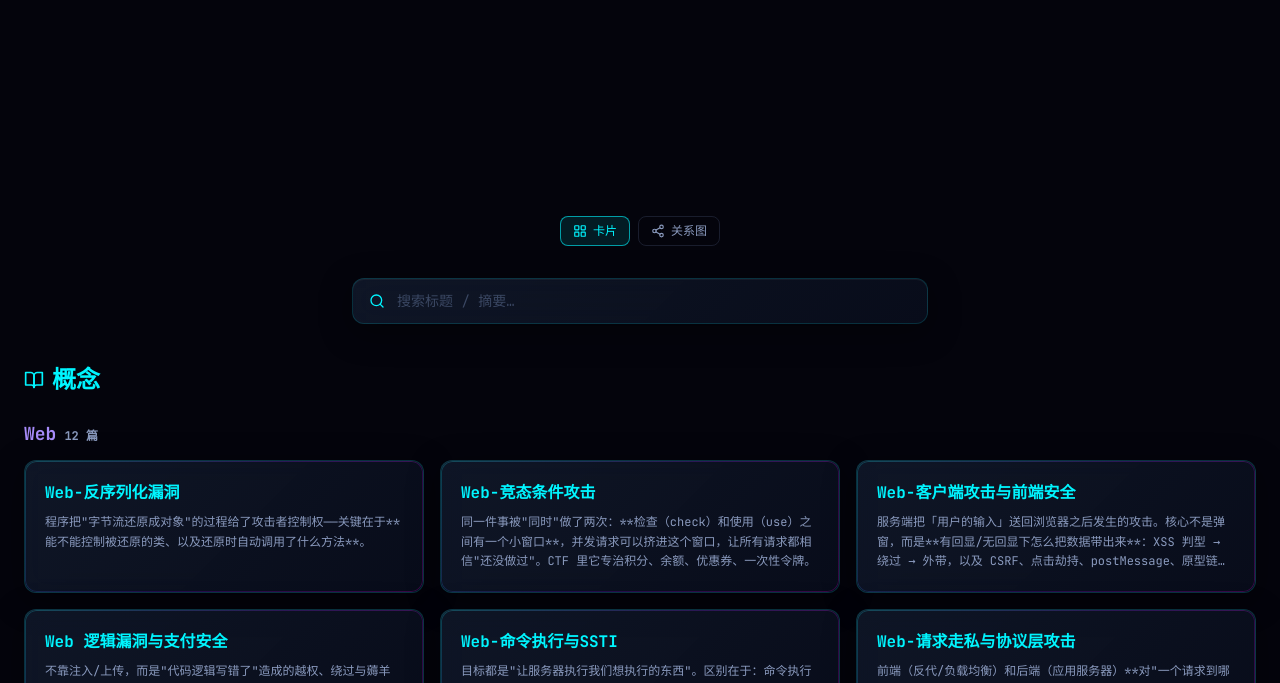
Scenario: 目录页渲染分区、卡片链接与搜索过滤
Check: the text "Web-反序列化漏洞" is shown, box [45,482,179,503]
Check: the heading "概念" is shown, box [24,364,100,395]
Type "Web-" into the field with placeholder "搜索标题 / 摘要…".
click(654, 301); type("Web-")  # box [397,291,911,311]
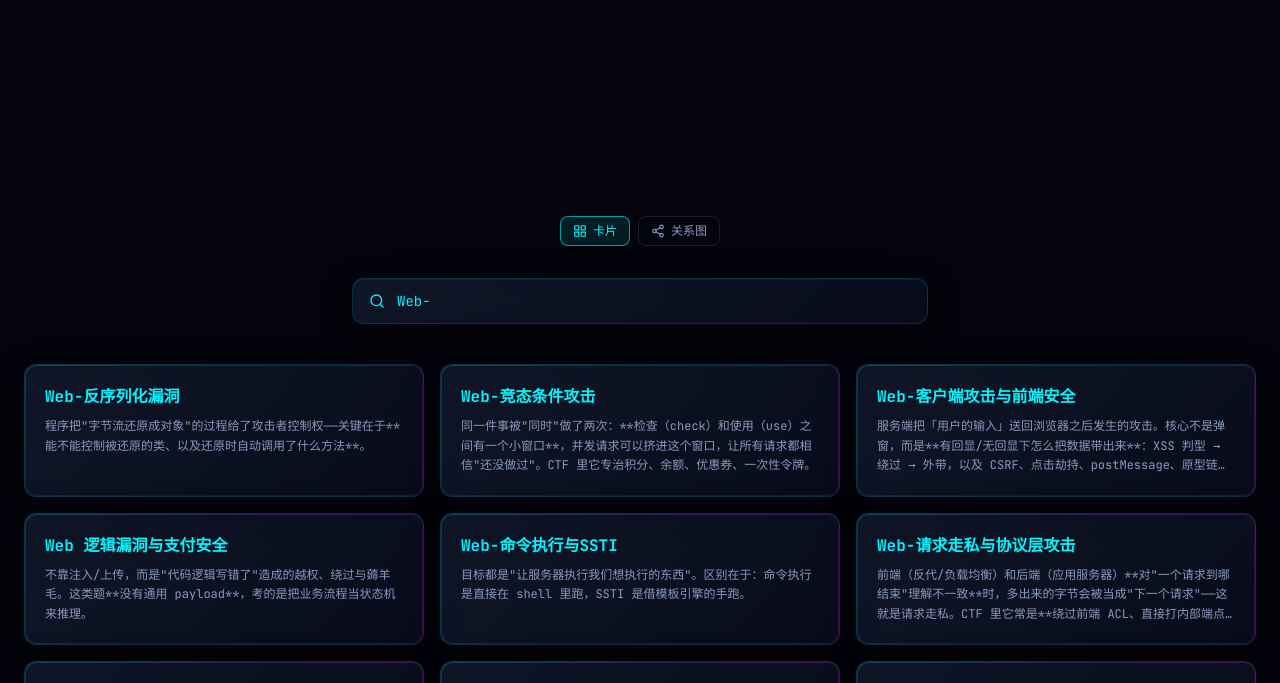
Check: the text "Web-反序列化漏洞" is shown, box [45,386,179,407]
Replace the text in the field with placeholder "搜索标题 / 摘要…" with "绝不匹配的词xyzzy" at (654, 301), box [397,291,911,311]
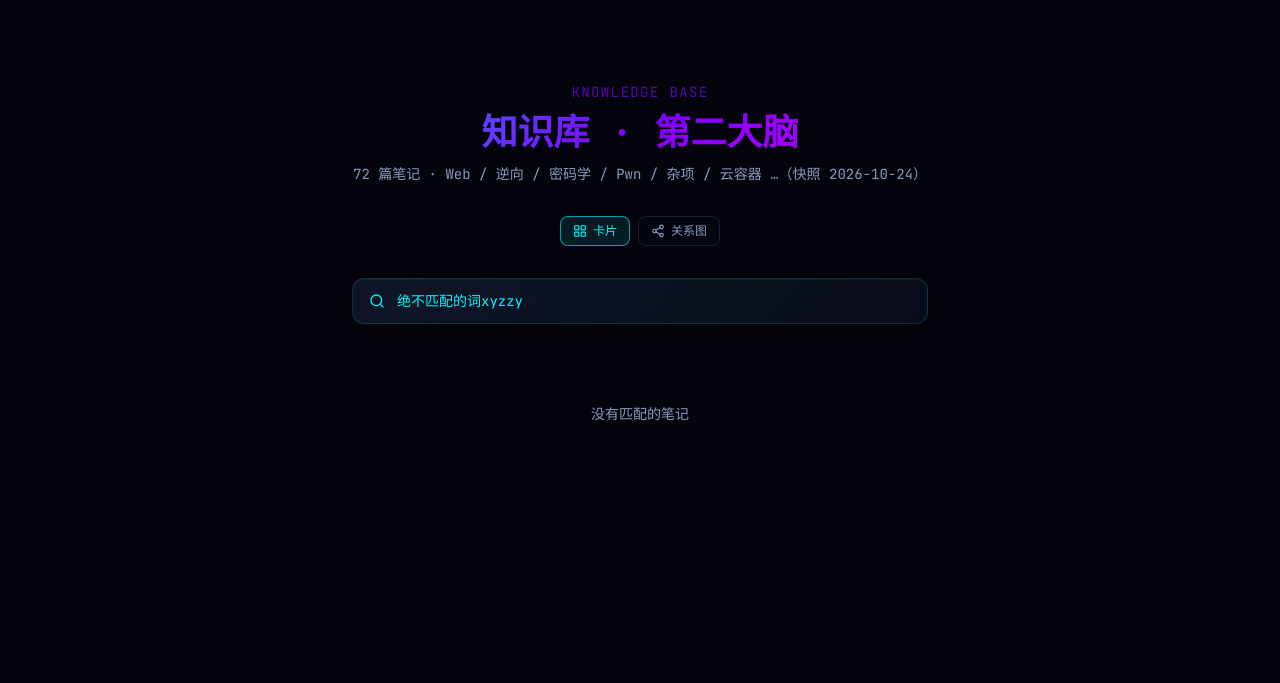
Check: the text "没有匹配的笔记" is shown, box [591,405,689,423]
